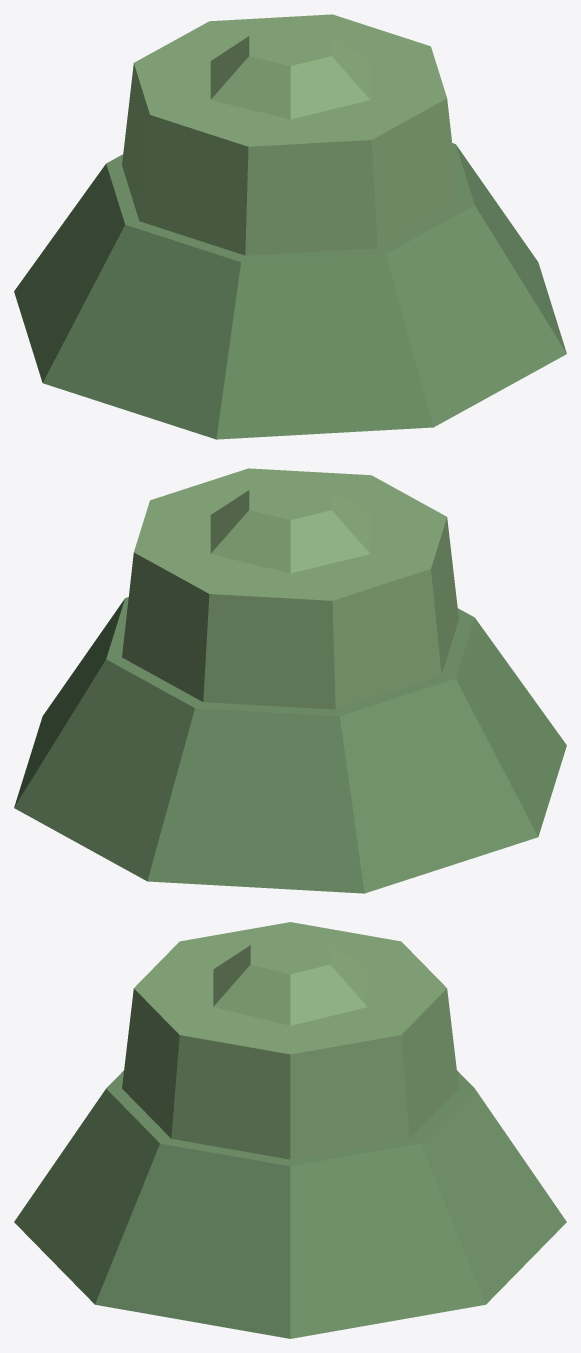
Rendered from hs_cabbage.glb.
The picture shows the model from 3 angles, top to bottom: view 1: azimuth 30°, elevation 25°; view 2: azimuth 150°, elevation 25°; view 3: azimuth 270°, elevation 25°; orthographic projection. The views are drawn at different scales.
Visible parts, largest first — view 1: hs_cabbage; view 2: hs_cabbage; view 3: hs_cabbage.
Boxes of the visible parts, x1=… form: hs_cabbage: x1=14, y1=14, x2=566, y2=439; hs_cabbage: x1=14, y1=468, x2=566, y2=893; hs_cabbage: x1=14, y1=922, x2=566, y2=1338.
Size of the model in its own units: 0.6 by 0.32 by 0.6.
